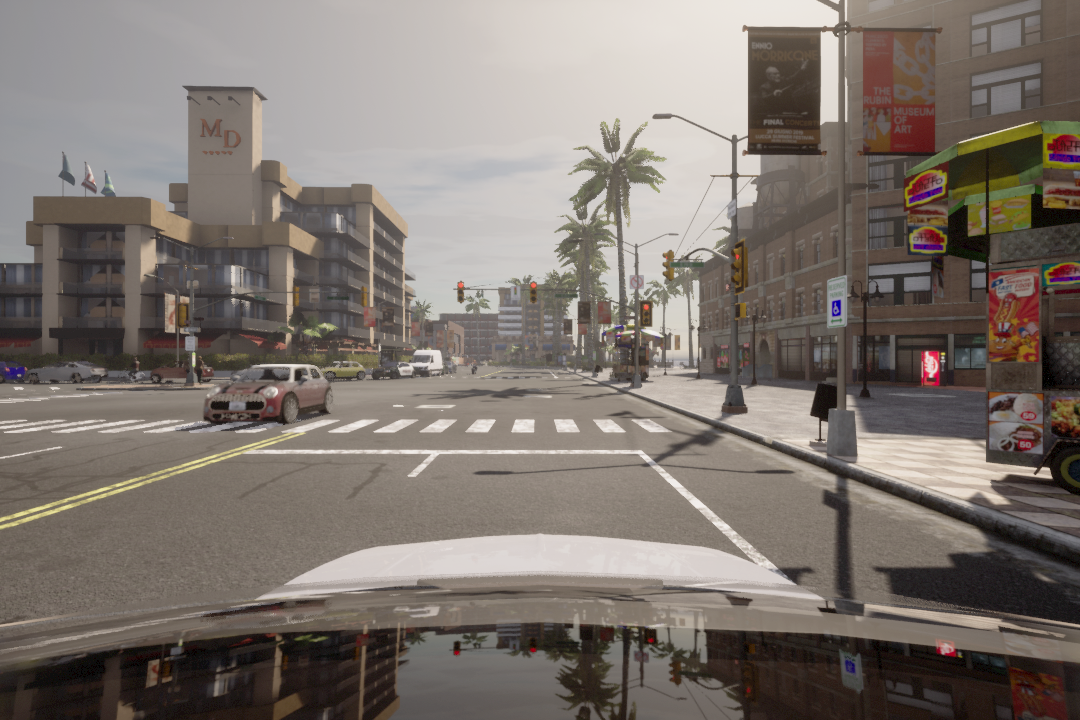TrafficLight: (728, 241, 747, 292), (660, 247, 677, 283), (640, 300, 653, 330), (456, 278, 466, 304), (530, 281, 537, 306)
TrafficSign: (629, 274, 646, 291)
walkside: (3, 417, 701, 444)
